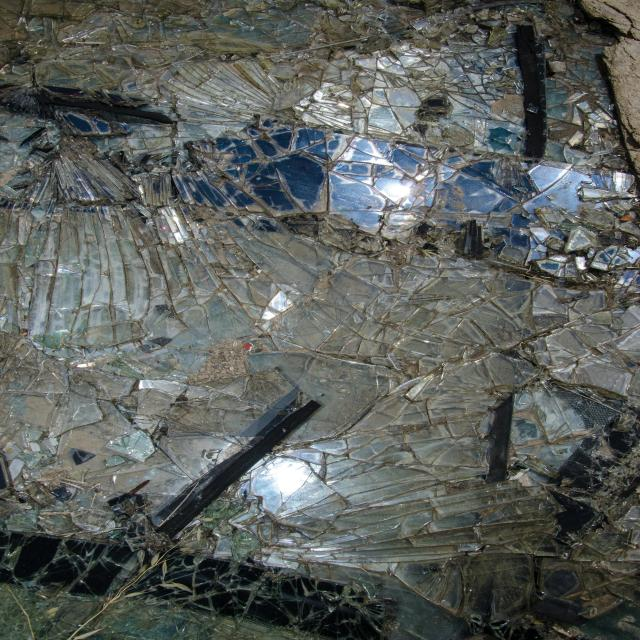electronic: (0, 94, 640, 289)
